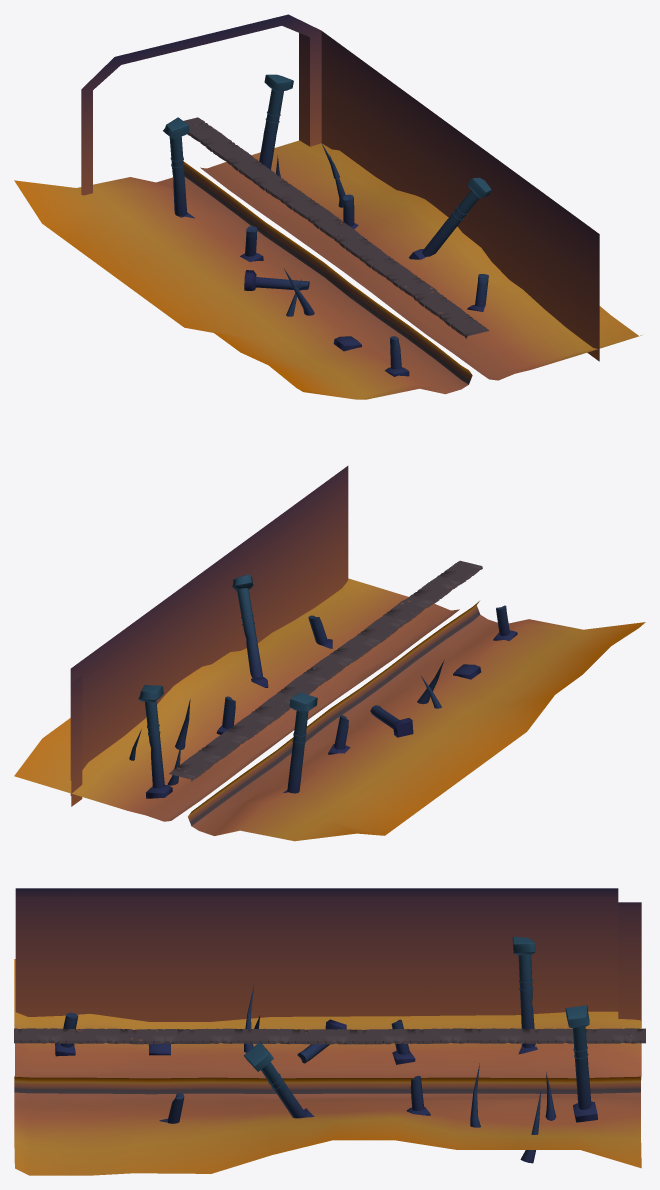
Rendered from stage2c.gltf.
3 renders of one model, top to bottom at view 1: azimuth 30°, elevation 25°; view 2: azimuth 150°, elevation 25°; view 3: azimuth 270°, elevation 25°, orthographic. The views are drawn at different scales.
Visible parts, largest first — view 1: stage2c_GEO:PIV; view 2: stage2c_GEO:PIV; view 3: stage2c_GEO:PIV.
Boxes of the visible parts, x1,y1,x2,y2 form: stage2c_GEO:PIV: [14, 14, 641, 399]; stage2c_GEO:PIV: [14, 466, 645, 841]; stage2c_GEO:PIV: [14, 888, 645, 1175].
Size of the model in its own units: 14256 by 6437 by 21000.
Materials: 1 (1 with a texture image).
